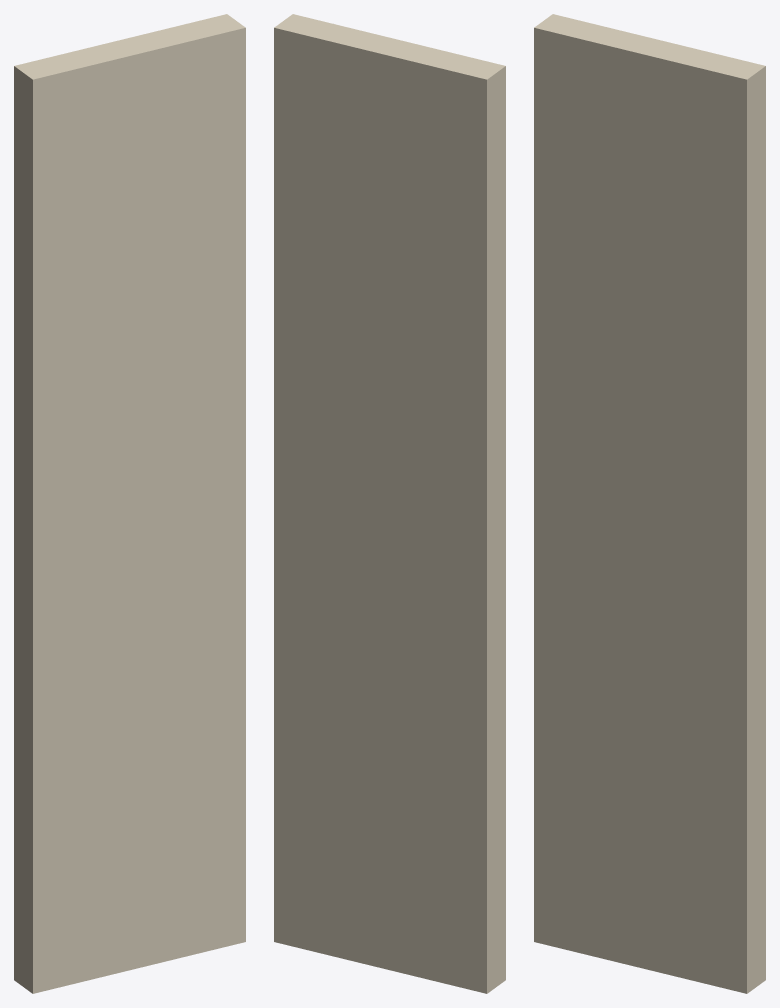
3 renders of one model, left to right at view 1: azimuth 30°, elevation 25°; view 2: azimuth 150°, elevation 25°; view 3: azimuth 330°, elevation 25°, orthographic.
Visible parts, largest first — view 1: A-FF-WALL-024; view 2: A-FF-WALL-024; view 3: A-FF-WALL-024.
Boxes of the visible parts, x1=… form: A-FF-WALL-024: x1=14, y1=14, x2=245, y2=993; A-FF-WALL-024: x1=274, y1=14, x2=505, y2=993; A-FF-WALL-024: x1=534, y1=14, x2=765, y2=993.
Size of the model in its own units: 0.59 by 2.42 by 0.09.
